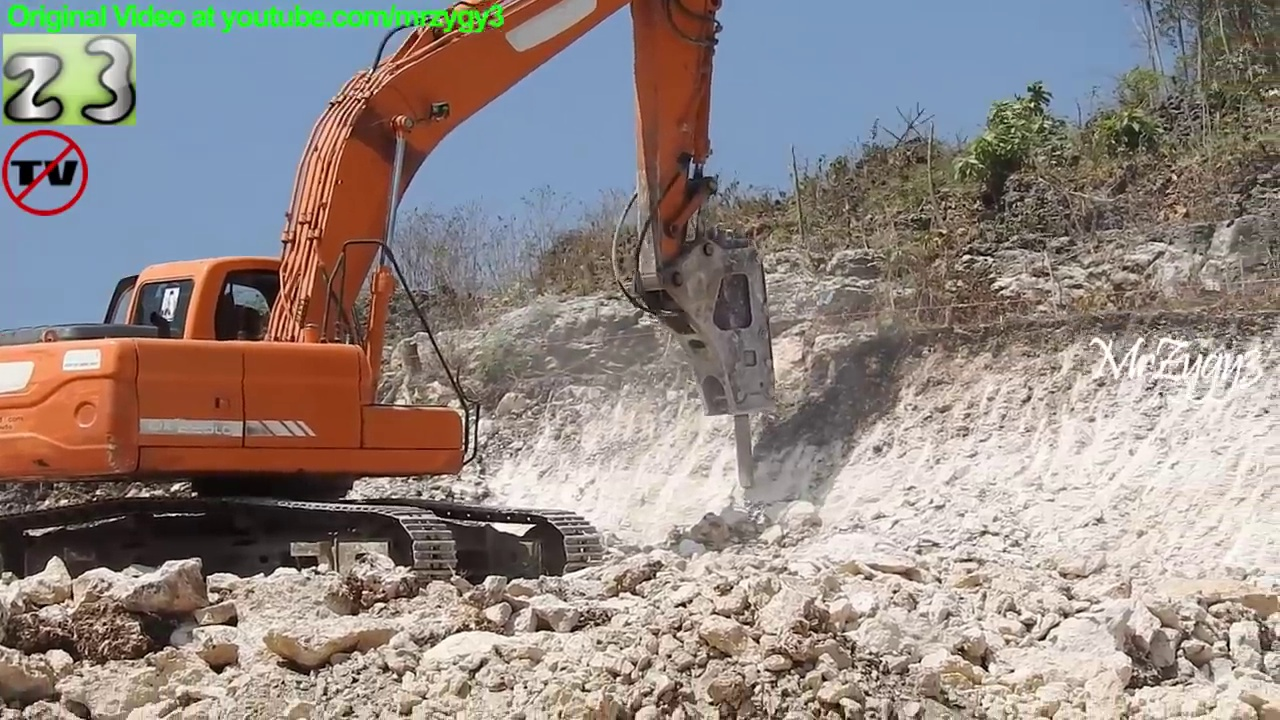excavator: (1, 1, 789, 600)
